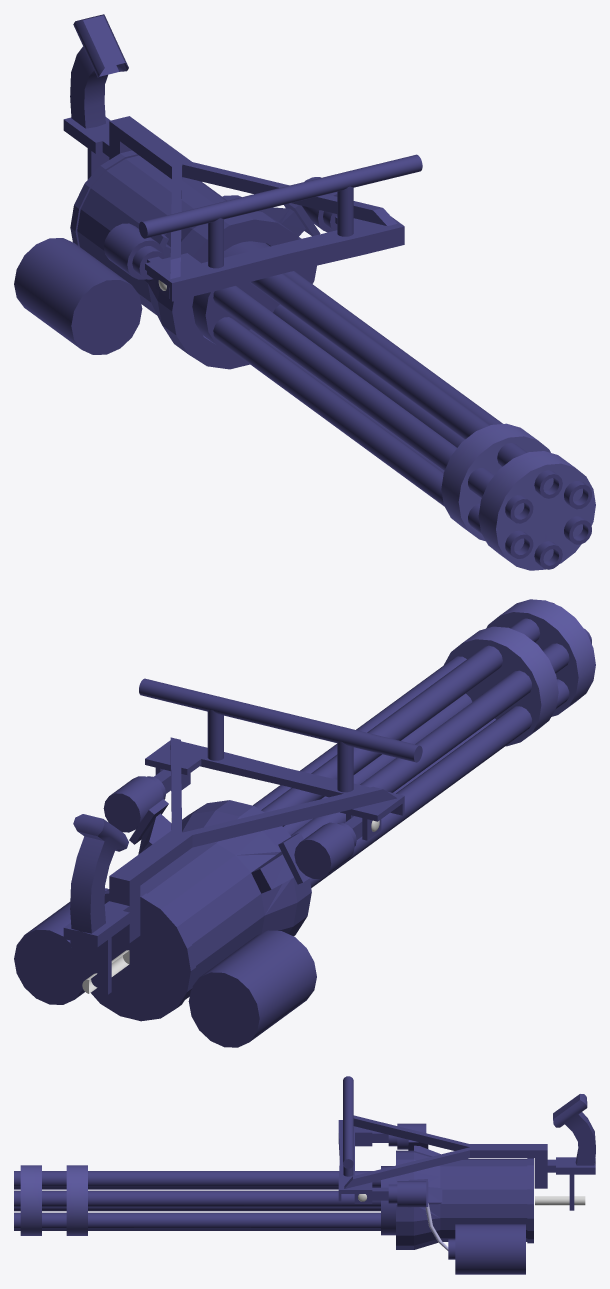
Rendered from minigan2.fbx.
3 views of the same model, one above another, from view 1: azimuth 30°, elevation 25°; view 2: azimuth 150°, elevation 25°; view 3: azimuth 270°, elevation 25° (orthographic). The views are drawn at different scales.
Visible parts, largest first — view 1: pPipe9, polySurface2, hanten1_group4_pCube1, pCylinder14, pPipe8, polySurface5, pCylinder12, hanten_group4_pasted__pCylinder5, pPipe7, pasted__pCylinder12, pCylinder6, pCylinder16 (+1 smaller); view 2: polySurface2, hanten1_group4_pCube1, pPipe9, pCylinder14, hanten_group4_pasted__pCylinder5, pPipe8, polySurface5, pasted__pCylinder12, pCylinder13, pCylinder12, pPipe7, pCylinder16 (+1 smaller); view 3: pPipe7, polySurface2, hanten1_group4_pCube1, pPipe8, pCylinder13, pPipe9, polySurface5, pCylinder12, pasted__pCylinder12, hanten_group4_pasted__pCylinder5, pCylinder15, pCylinder6 (+3 smaller).
Boxes of the visible parts, x1=… form: pPipe9: x1=213, y1=286, x2=533, y2=558; polySurface2: x1=70, y1=150, x2=320, y2=369; hanten1_group4_pCube1: x1=63, y1=14, x2=397, y2=278; pCylinder14: x1=14, y1=238, x2=142, y2=354; pPipe8: x1=250, y1=273, x2=562, y2=498; polySurface5: x1=145, y1=216, x2=404, y2=301; pCylinder12: x1=478, y1=451, x2=595, y2=570; hanten_group4_pasted__pCylinder5: x1=139, y1=154, x2=422, y2=268; pPipe7: x1=273, y1=271, x2=591, y2=544; pasted__pCylinder12: x1=441, y1=423, x2=550, y2=541; pCylinder6: x1=192, y1=241, x2=299, y2=354; pCylinder16: x1=103, y1=223, x2=165, y2=279; polySurface2: x1=70, y1=799, x2=311, y2=1021; hanten1_group4_pCube1: x1=63, y1=737, x2=396, y2=994; pPipe9: x1=290, y1=628, x2=591, y2=887; pCylinder14: x1=188, y1=930, x2=316, y2=1047; hanten_group4_pasted__pCylinder5: x1=139, y1=678, x2=422, y2=792; pPipe8: x1=261, y1=602, x2=555, y2=826; polySurface5: x1=145, y1=740, x2=404, y2=840; pasted__pCylinder12: x1=444, y1=626, x2=558, y2=746; pCylinder13: x1=14, y1=888, x2=108, y2=1004; pCylinder12: x1=486, y1=599, x2=595, y2=716; pPipe7: x1=253, y1=656, x2=472, y2=834; pCylinder16: x1=294, y1=822, x2=356, y2=878; pPipe7: x1=14, y1=1190, x2=380, y2=1229; polySurface2: x1=396, y1=1140, x2=533, y2=1249; hanten1_group4_pCube1: x1=344, y1=1094, x2=595, y2=1210; pPipe8: x1=14, y1=1171, x2=380, y2=1187; pCylinder13: x1=448, y1=1224, x2=525, y2=1274; pPipe9: x1=14, y1=1187, x2=380, y2=1211; polySurface5: x1=338, y1=1120, x2=388, y2=1203; pCylinder12: x1=20, y1=1165, x2=41, y2=1235; pasted__pCylinder12: x1=66, y1=1165, x2=87, y2=1235; hanten_group4_pasted__pCylinder5: x1=343, y1=1076, x2=353, y2=1176; pCylinder15: x1=388, y1=1181, x2=426, y2=1207; pCylinder6: x1=381, y1=1166, x2=395, y2=1235.
Size of the model in its own units: 6.98 by 5.86 by 20.71.
